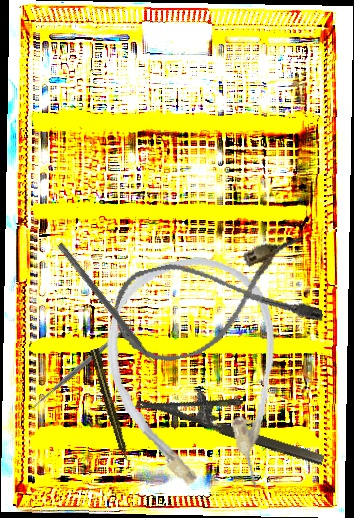Cannula: (93, 246, 300, 510), (107, 233, 325, 371)
Handpiece: (88, 347, 133, 465)
Needle Holder: (135, 369, 333, 468)
Spatula Surgical: (50, 241, 166, 379), (29, 317, 138, 411)
